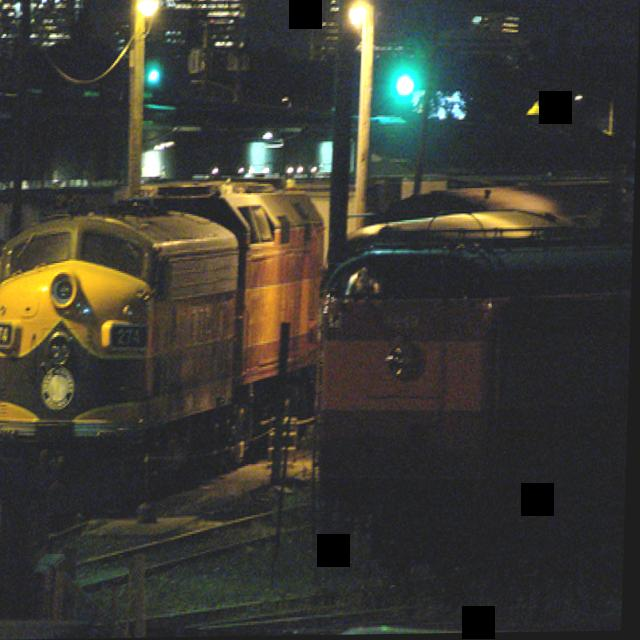locomotive: (0, 185, 246, 530)
